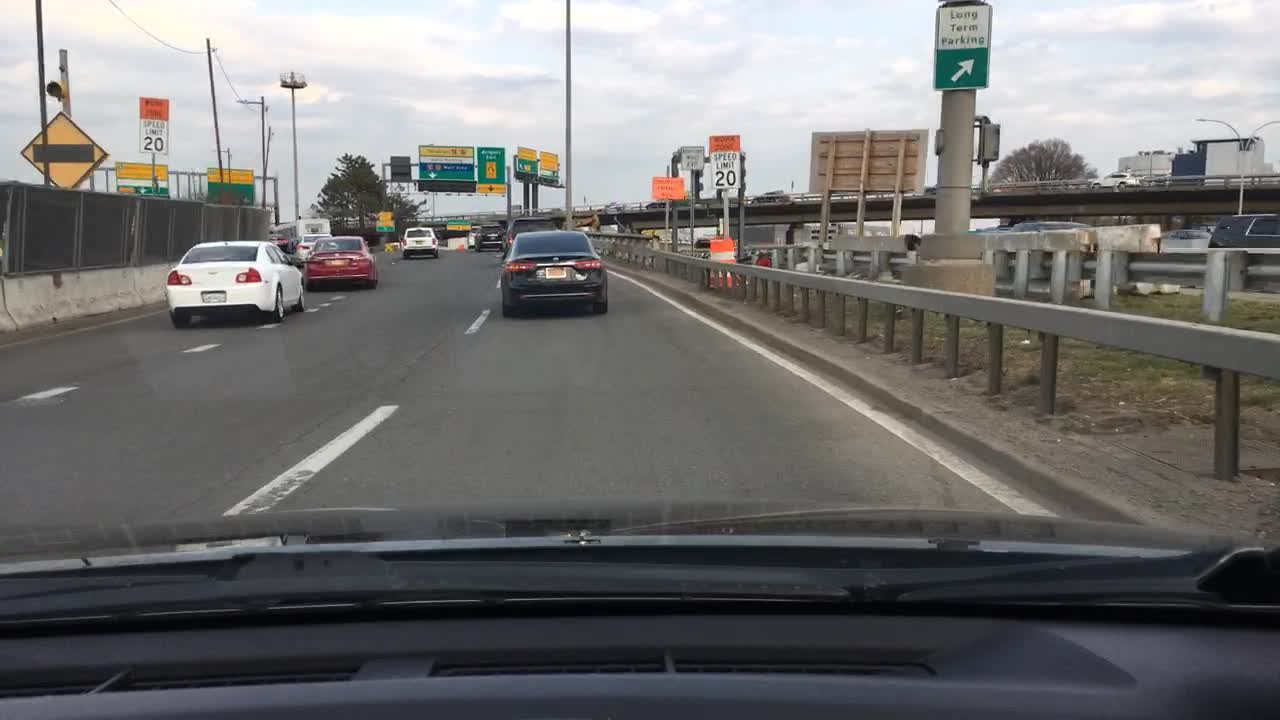bus: (272, 217, 330, 245)
car: (162, 237, 307, 329), (497, 227, 609, 317), (299, 232, 380, 290), (499, 214, 558, 258), (1207, 212, 1279, 248), (1153, 227, 1214, 251), (400, 225, 440, 260), (1002, 222, 1089, 235), (1085, 171, 1141, 190), (471, 221, 506, 250), (297, 230, 325, 263), (750, 189, 790, 205), (465, 222, 483, 248), (274, 235, 293, 253), (694, 235, 708, 249)
traffic light: (44, 79, 70, 102)
traffic sign: (808, 127, 927, 198), (20, 111, 111, 194), (930, 2, 994, 92), (113, 162, 173, 200), (707, 133, 742, 193), (419, 145, 475, 180), (205, 170, 259, 204), (139, 94, 168, 156), (476, 145, 507, 186), (648, 176, 685, 203), (677, 144, 704, 172), (516, 147, 542, 173), (539, 150, 562, 176), (389, 156, 411, 182), (444, 217, 470, 232), (476, 184, 507, 194), (375, 219, 394, 232), (377, 209, 394, 218)
